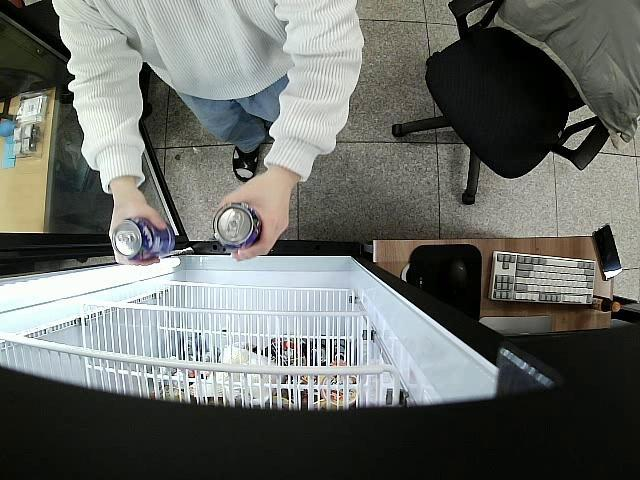14_welchsGrape: (210, 202, 264, 256), (112, 214, 175, 258)
